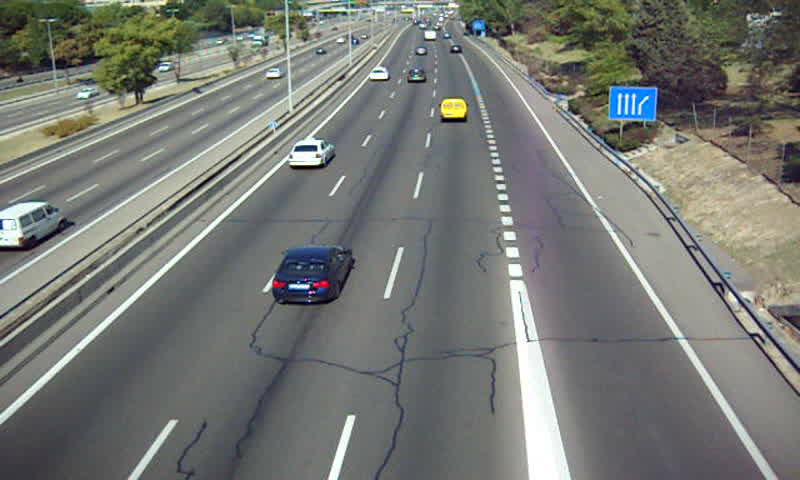car: (272, 245, 352, 303), (287, 140, 335, 168), (369, 66, 391, 82), (406, 68, 426, 84)
van: (440, 98, 468, 121)
